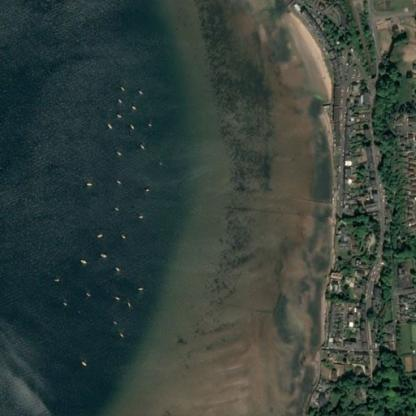ship: (112, 112, 124, 120), (114, 148, 122, 157), (81, 359, 89, 367), (96, 231, 103, 239), (77, 257, 86, 263), (98, 252, 108, 257), (129, 103, 137, 109), (115, 177, 121, 185), (136, 87, 142, 94), (112, 265, 118, 272), (135, 285, 142, 291), (124, 299, 130, 306), (53, 276, 58, 284), (137, 213, 143, 219), (112, 294, 118, 300), (138, 142, 144, 148), (144, 120, 151, 125), (156, 159, 161, 166), (112, 206, 118, 211), (120, 233, 125, 239), (115, 98, 122, 102), (60, 300, 67, 304), (128, 122, 133, 127), (105, 122, 110, 127), (85, 180, 90, 185), (144, 187, 149, 192), (111, 319, 116, 324), (118, 332, 123, 337), (83, 291, 88, 296), (120, 85, 124, 91)
